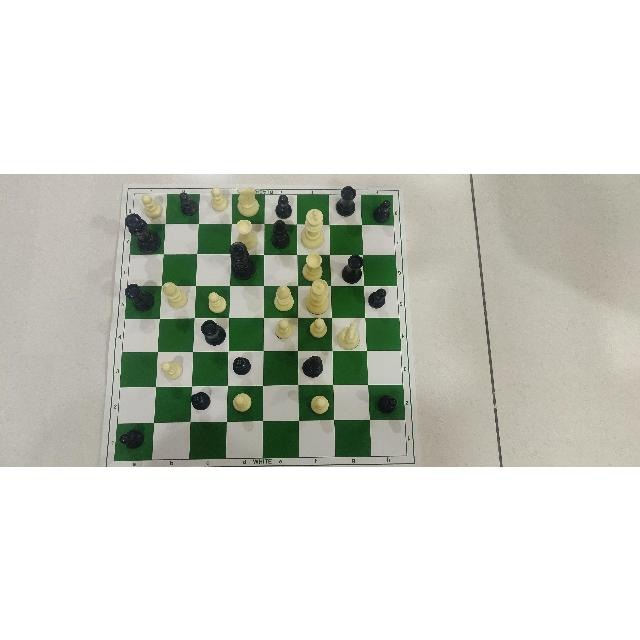black-bishop: (301, 353, 325, 377), (272, 218, 289, 249)
black-king: (303, 208, 327, 247), (231, 241, 253, 280)
black-pawn: (179, 190, 199, 218), (376, 394, 400, 415), (372, 198, 393, 222), (119, 428, 144, 448), (188, 391, 210, 411), (274, 192, 291, 217), (233, 356, 251, 375), (370, 289, 387, 308)
black-queen: (126, 213, 160, 251)
black-rook: (123, 281, 153, 309), (198, 319, 226, 349), (338, 255, 363, 283), (338, 183, 356, 219)
white-bishop: (160, 280, 188, 310), (272, 283, 293, 311)
white-knight: (233, 184, 259, 215), (338, 320, 361, 349)
white-pawn: (205, 285, 233, 313), (139, 193, 164, 217), (158, 358, 183, 381), (230, 392, 254, 415), (211, 184, 231, 210), (275, 319, 293, 340), (310, 394, 331, 412), (309, 318, 329, 336)
white-queen: (309, 277, 332, 313)
white-rook: (234, 216, 259, 243), (305, 252, 327, 276)
